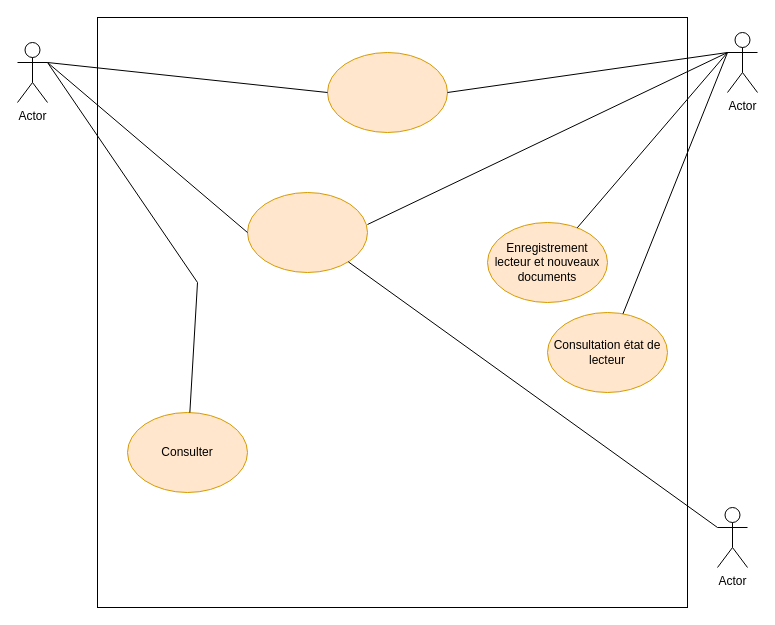
The diagram is 775 pixels wide and 625 high, and some of its shapes have lost their labels. Here are the shapes that lost their labels. From the top down, the centre of each, then its label:
At [387,92]: "Création de cartes de lecteur".
At [307,232]: "Emprunt".
